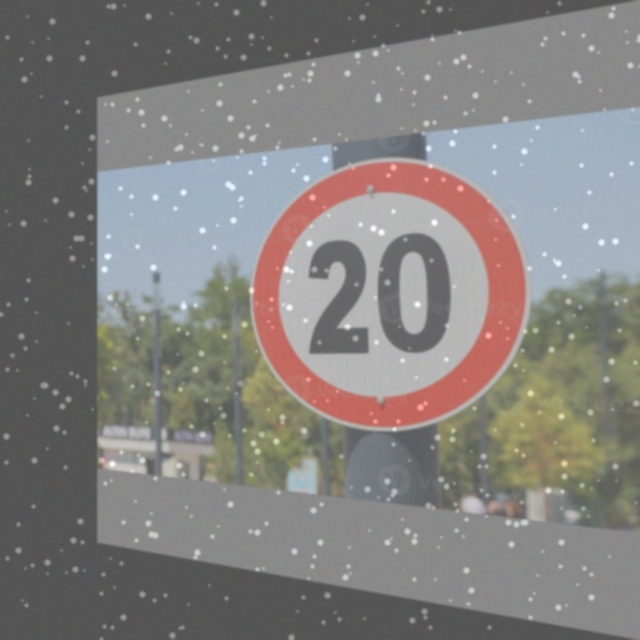Speed_Limit_20: (254, 139, 523, 429)
